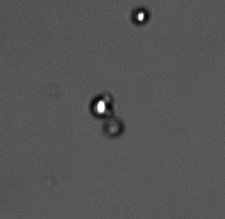Dead Cell: (104, 118, 124, 138)
Living Cell: (90, 94, 113, 118), (132, 7, 149, 25)
